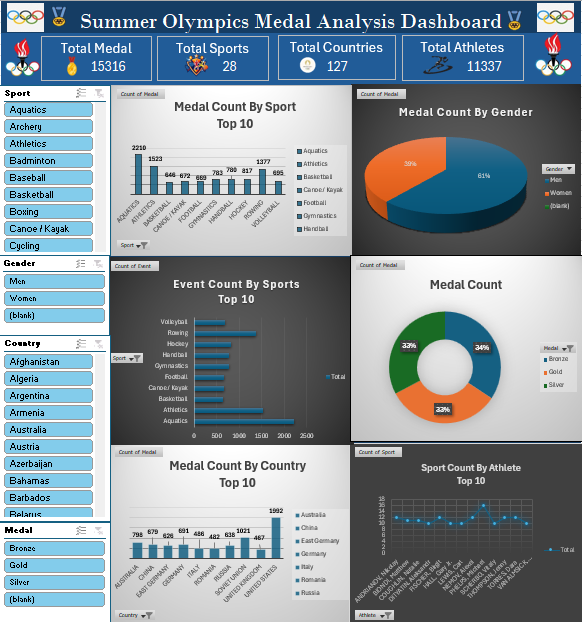

What the dashboard file says about the page in this screenshot:
{"tool":"powerbi","page":{"name":"Page 1","canvas":[1280,720],"ordinal":0},"visuals":[{"type":"textbox","box":[1,0,1279,75],"z":0},{"type":"kpi","fields":{"Indicator":["Clean_data.Total Medals"],"TrendLine":["Clean_data.Medal"]},"box":[0,67.3,321.6,66],"z":1000},{"type":"kpi","fields":{"Indicator":["Clean_data.Total Countries"],"TrendLine":["Clean_data.Country"]},"box":[321.6,67.3,342.4,66],"z":2000},{"type":"kpi","fields":{"Indicator":["Clean_data.Total Sports"],"TrendLine":["Clean_data.Sport"]},"box":[664,67.3,303.3,66],"z":3000},{"type":"kpi","fields":{"Indicator":["Clean_data.Total Athletes"],"TrendLine":["Clean_data.Athlete"]},"box":[967.3,67.3,313,66],"z":4000},{"type":"columnChart","fields":{"Category":["Clean_data.Country"],"Y":["CountNonNull(Clean_data.Medal)"]},"box":[218.6,132.9,445.7,311.4],"z":5000},{"type":"pieChart","fields":{"Y":["CountNonNull(Clean_data.Medal)"],"Category":["Clean_data.Gender"]},"box":[663.8,133.8,396.2,311.2],"z":6000},{"type":"listSlicer","fields":{"Values":["Clean_data.Gender"]},"box":[1060,292.5,218.8,151.2],"z":7000},{"type":"listSlicer","fields":{"Values":["Clean_data.Medal"]},"box":[0,292.5,218.8,152.5],"z":8000},{"type":"listSlicer","fields":{"Values":["Clean_data.Sport"]},"box":[1.2,133.3,217.7,159],"z":9000},{"type":"listSlicer","fields":{"Values":["Clean_data.Country"]},"box":[1060.2,134.5,220.1,156.5],"z":10000},{"type":"donutChart","fields":{"Category":["Clean_data.Medal"],"Y":["CountNonNull(Clean_data.Sport)"]},"box":[362.5,445,358.8,275],"z":11000},{"type":"lineChart","fields":{"Category":["Clean_data.Athlete"],"Y":["CountNonNull(Clean_data.Sport)"]},"box":[0,445,362.5,275],"z":12000},{"type":"columnChart","fields":{"Category":["Clean_data.Event"],"Y":["CountNonNull(Clean_data.Sport)"]},"box":[716.2,445,291.2,275],"z":13000},{"type":"clusteredBarChart","fields":{"Category":["Clean_data.City"],"Y":["CountNonNull(Clean_data.Medal)"]},"box":[1007.5,443.8,271.2,275],"z":14000}]}

Visuals, with their boxes on the page's 1280x720 design canvas (x1, y1, x2, y2). These are canvas units, not pixel positions in the 582x622 screenshot, which may show the page scaled, cropped or inside an application window:
textbox: bbox=[1, 0, 1280, 75]
kpi - Clean_data.Total Medals x Clean_data.Medal: bbox=[0, 67, 322, 133]
kpi - Clean_data.Total Countries x Clean_data.Country: bbox=[322, 67, 664, 133]
kpi - Clean_data.Total Sports x Clean_data.Sport: bbox=[664, 67, 967, 133]
kpi - Clean_data.Total Athletes x Clean_data.Athlete: bbox=[967, 67, 1280, 133]
columnChart - Clean_data.Country x CountNonNull(Clean_data.Medal): bbox=[219, 133, 664, 444]
pieChart - CountNonNull(Clean_data.Medal) x Clean_data.Gender: bbox=[664, 134, 1060, 445]
listSlicer - Clean_data.Gender: bbox=[1060, 292, 1279, 444]
listSlicer - Clean_data.Medal: bbox=[0, 292, 219, 445]
listSlicer - Clean_data.Sport: bbox=[1, 133, 219, 292]
listSlicer - Clean_data.Country: bbox=[1060, 134, 1280, 291]
donutChart - Clean_data.Medal x CountNonNull(Clean_data.Sport): bbox=[362, 445, 721, 720]
lineChart - Clean_data.Athlete x CountNonNull(Clean_data.Sport): bbox=[0, 445, 362, 720]
columnChart - Clean_data.Event x CountNonNull(Clean_data.Sport): bbox=[716, 445, 1007, 720]
clusteredBarChart - Clean_data.City x CountNonNull(Clean_data.Medal): bbox=[1008, 444, 1279, 719]
